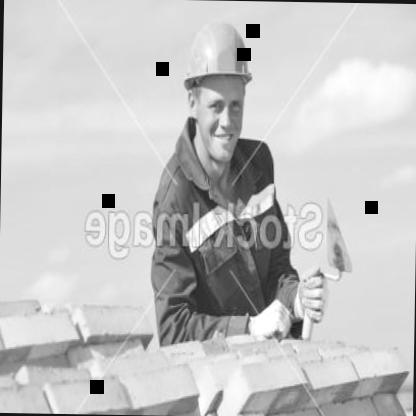helmet: (170, 0, 262, 180)
